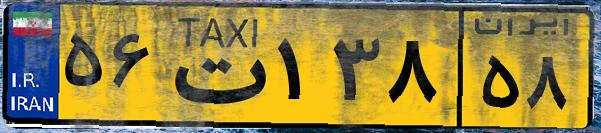1: (270, 28, 330, 110)
3: (330, 28, 385, 110)
5: (57, 26, 110, 100), (475, 38, 525, 113)
6: (110, 28, 158, 98)
8: (385, 28, 445, 110), (525, 38, 570, 115)
ت: (158, 12, 270, 120)
